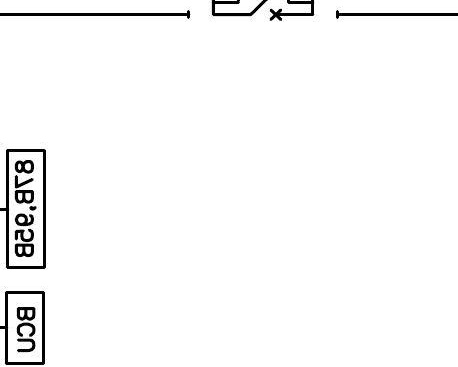BCU: (4, 290, 46, 366)
